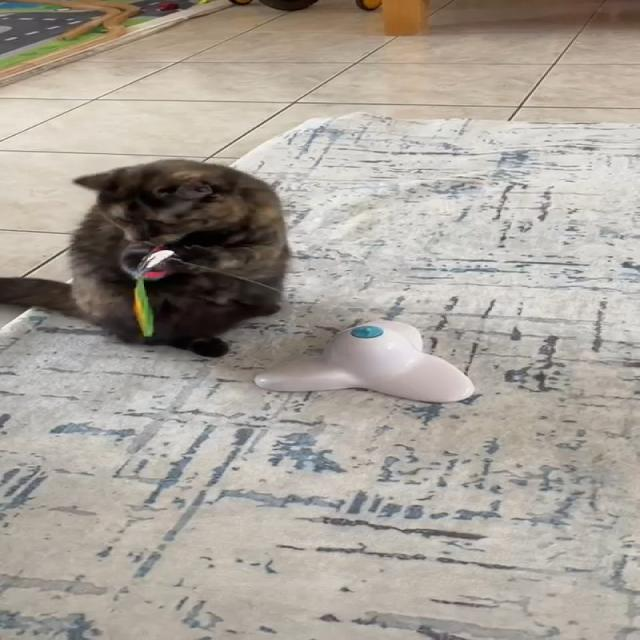authorized: (0, 158, 291, 358)
